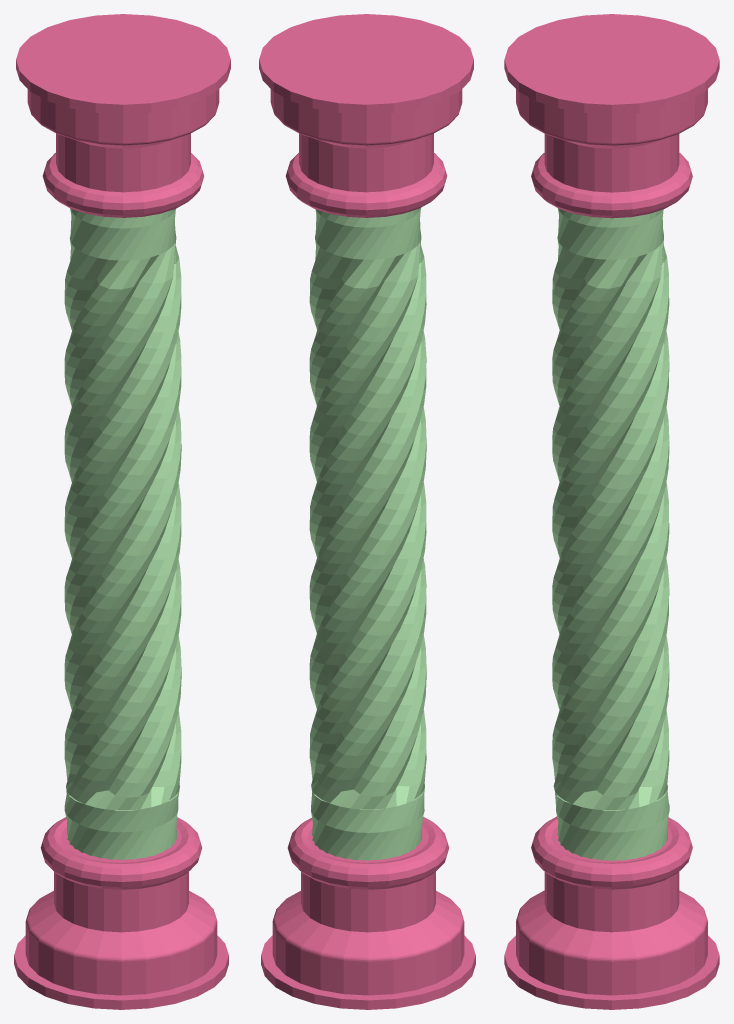
Rendered from pillar 1.fbx.
3 renders of one model, left to right at view 1: azimuth 30°, elevation 25°; view 2: azimuth 150°, elevation 25°; view 3: azimuth 270°, elevation 25°, orthographic.
Visible parts, largest first — view 1: Circle, Torus.001, Torus; view 2: Circle, Torus.001, Torus; view 3: Circle, Torus.001, Torus.
Boxes of the visible parts, x1,y1,x2,y2 form: Circle: [64, 208, 181, 859]; Torus.001: [16, 14, 230, 217]; Torus: [14, 817, 228, 1009]; Circle: [309, 208, 426, 860]; Torus.001: [259, 14, 473, 217]; Torus: [261, 817, 475, 1009]; Circle: [552, 208, 669, 860]; Torus.001: [504, 14, 719, 218]; Torus: [504, 816, 719, 1009].
Size of the model in its own units: 3.22 by 14.82 by 3.19.
